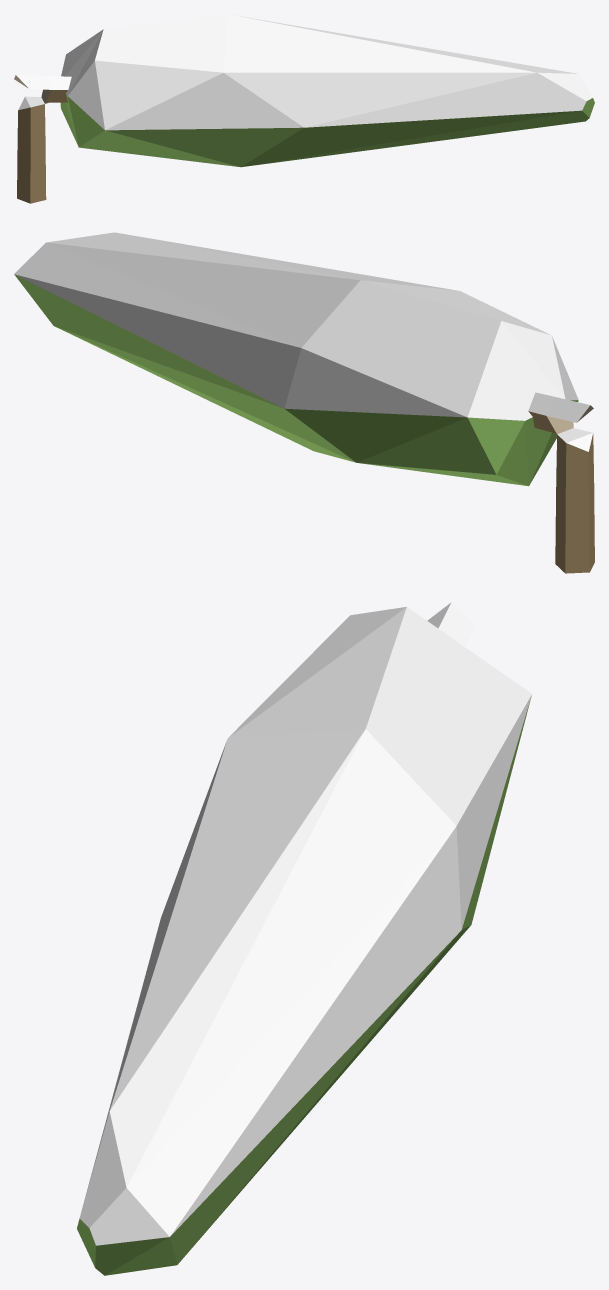
The model's file is Thuja_Tree_crk_m_Snow_BT_02.fbx.
The picture shows the model from 3 angles, top to bottom: view 1: azimuth 30°, elevation 25°; view 2: azimuth 150°, elevation 25°; view 3: azimuth 270°, elevation 25°; orthographic projection. The views are drawn at different scales.
Parts seen in each view (by area): view 1: Thuja_Tree_crk_m_Snow_BT_02; view 2: Thuja_Tree_crk_m_Snow_BT_02; view 3: Thuja_Tree_crk_m_Snow_BT_02.
Part boxes in pixels (x1,y1,x2,y2): Thuja_Tree_crk_m_Snow_BT_02: (14,14,594,203); Thuja_Tree_crk_m_Snow_BT_02: (14,232,594,573); Thuja_Tree_crk_m_Snow_BT_02: (77,602,531,1275).
Bounding box in the file's own units: 412 × 126 × 164.
